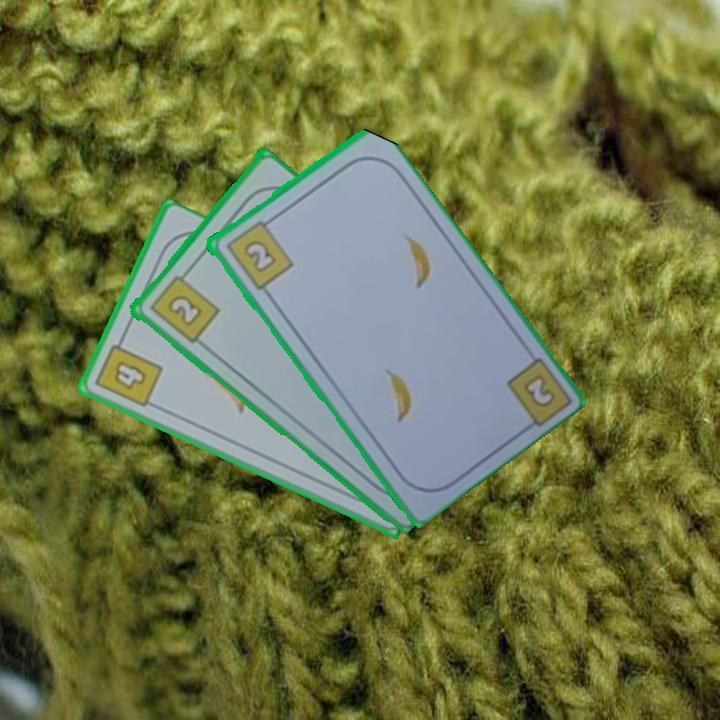2b: (145, 266, 222, 347), (221, 214, 296, 293), (522, 374, 555, 408)
4b: (91, 332, 166, 411)
